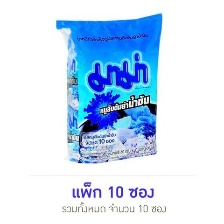snack: (46, 6, 168, 167)
